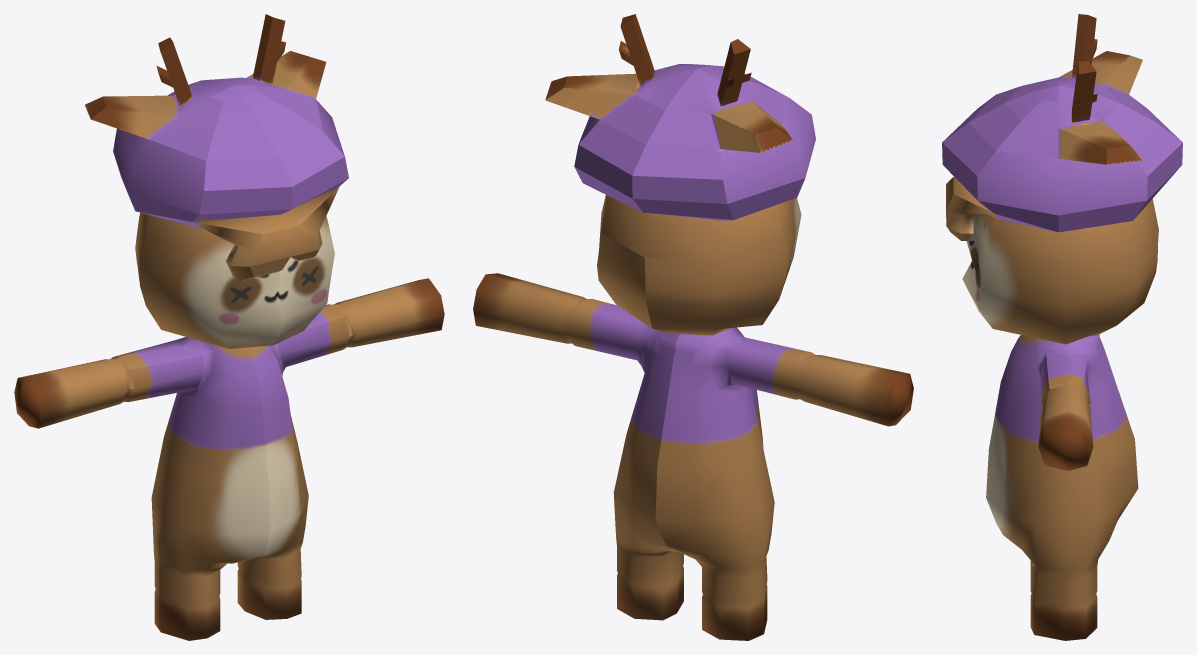
File: Enemy2_Color_Fix.fbx
3 views of the same model, side by side, from view 1: azimuth 30°, elevation 25°; view 2: azimuth 150°, elevation 25°; view 3: azimuth 270°, elevation 25° (orthographic). The views are drawn at different scales.
Parts seen in each view (by area): view 1: Body, Hat, Hair; view 2: Body, Hat; view 3: Body, Hat, Hair.
Part boxes in pixels (bbox=[...]): Body: bbox=[14, 212, 444, 640]; Hat: bbox=[85, 14, 348, 229]; Hair: bbox=[193, 186, 339, 281]; Body: bbox=[473, 195, 913, 640]; Hat: bbox=[545, 14, 815, 220]; Body: bbox=[962, 199, 1158, 640]; Hat: bbox=[942, 14, 1182, 232]; Hair: bbox=[946, 177, 996, 240].
Bounding box in the file's own units: 8.67 × 11.44 × 4.38.
